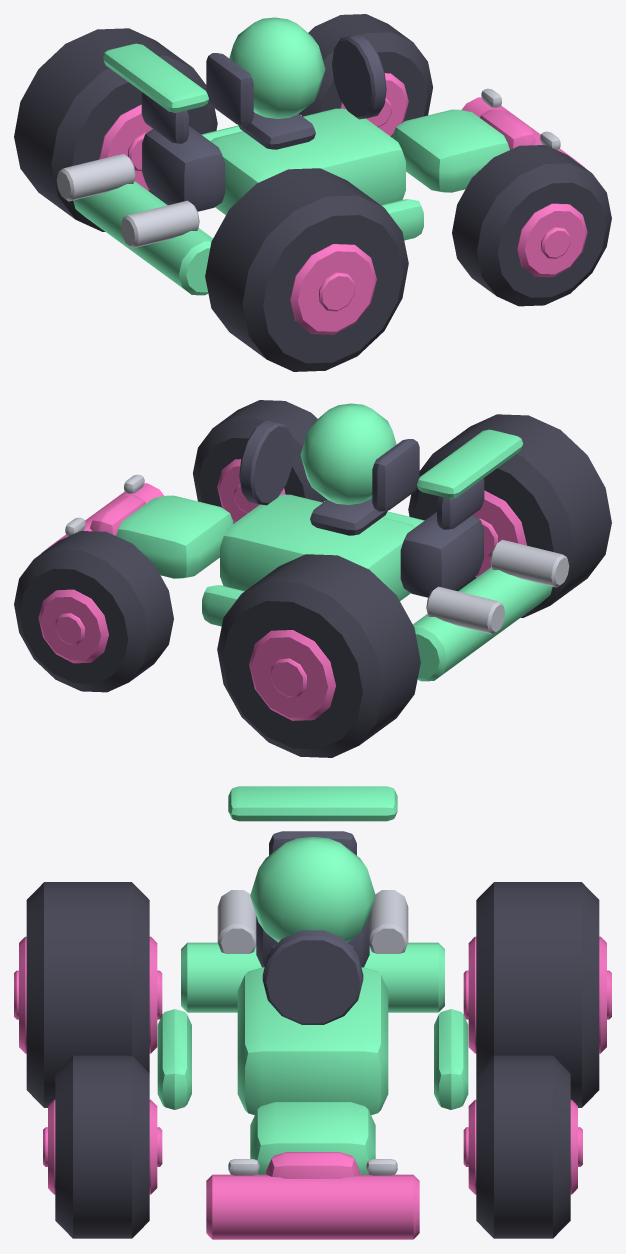
Rendered from kart.glb.
3 views of the same model, one above another, from view 1: azimuth 30°, elevation 25°; view 2: azimuth 150°, elevation 25°; view 3: azimuth 270°, elevation 25° (orthographic). The views are drawn at different scales.
Visible parts, largest first — view 1: Cuerpo, RuedaTD, RuedaDD, RuedaTI, RuedaDI; view 2: Cuerpo, RuedaTI, RuedaDI, RuedaTD, RuedaDD; view 3: Cuerpo, RuedaTD, RuedaTI, RuedaDD, RuedaDI.
Boxes of the visible parts, x1,y1,x2,y2 form: Cuerpo: [56, 17, 584, 295]; RuedaTD: [205, 168, 408, 371]; RuedaDD: [452, 145, 611, 306]; RuedaTI: [14, 28, 217, 231]; RuedaDI: [298, 14, 432, 137]; Cuerpo: [41, 403, 569, 681]; RuedaTI: [217, 554, 420, 757]; RuedaDI: [14, 531, 173, 692]; RuedaTD: [408, 414, 611, 617]; RuedaDD: [193, 400, 327, 523]; Cuerpo: [157, 786, 468, 1239]; RuedaTD: [14, 882, 162, 1107]; RuedaTI: [463, 882, 611, 1107]; RuedaDD: [43, 1055, 162, 1238]; RuedaDI: [463, 1055, 582, 1238].
Bounding box in the file's own units: 48.6 × 25.75 × 47.6.
